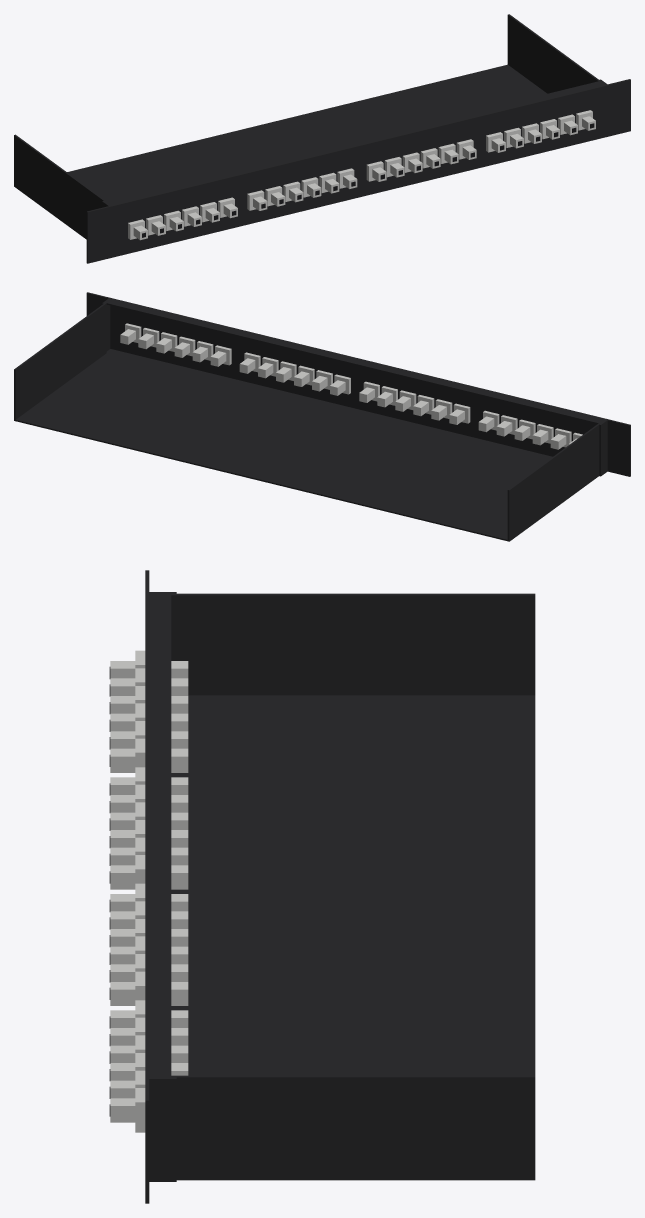
The model's file is FP-ST-24.far.glb.
3 renders of one model, top to bottom at view 1: azimuth 30°, elevation 25°; view 2: azimuth 150°, elevation 25°; view 3: azimuth 270°, elevation 25°, orthographic. The views are drawn at different scales.
Parts seen in each view (by area): view 1: FP-ST-24_Body_far; view 2: FP-ST-24_Body_far; view 3: FP-ST-24_Body_far.
Part boxes in pixels (x1,y1,x2,y2): FP-ST-24_Body_far: [14, 14, 630, 263]; FP-ST-24_Body_far: [14, 292, 630, 541]; FP-ST-24_Body_far: [109, 570, 535, 1203].
Bounding box in the file's own units: 0.4826 × 0.0437 × 0.1638.
Materials: 1 (1 with a texture image).
